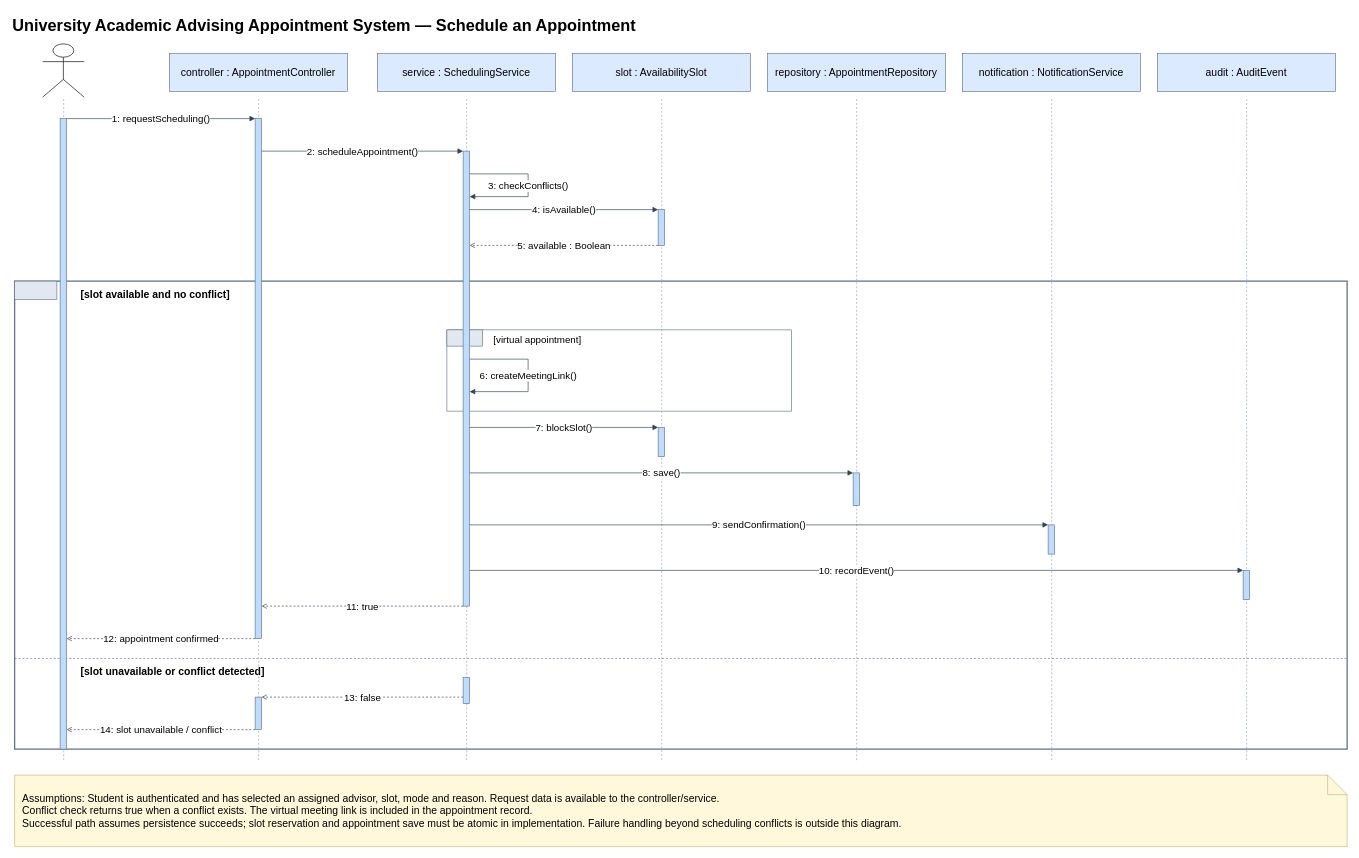
This 1359x858 diagram has some shape labels left out. Here are the shapes that lost their labels. From the top down, the box of each, then its label:
(42, 43, 84, 97): Student
(14, 280, 57, 299): alt
(446, 329, 483, 346): opt
